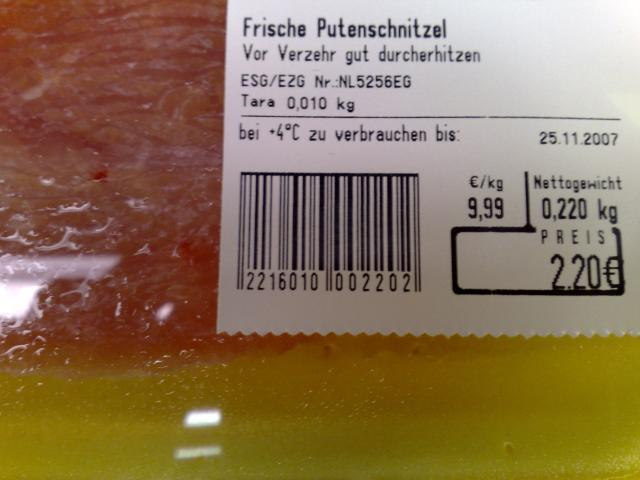Barcode: (228, 170, 429, 306)
